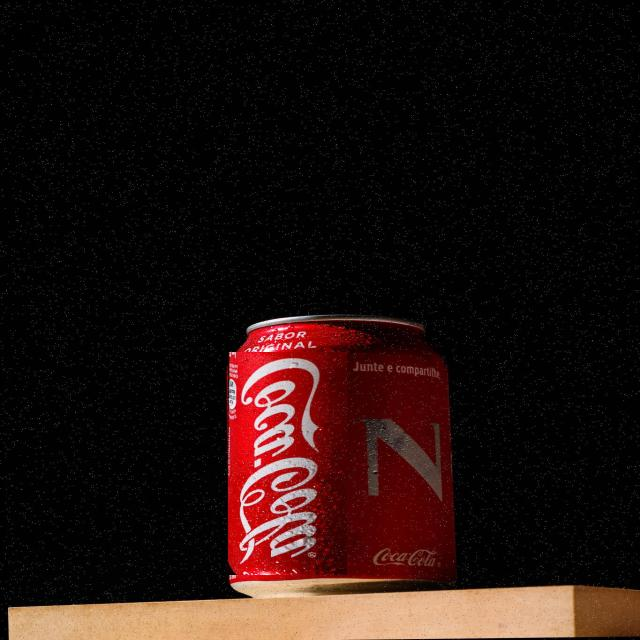coca-cola: (228, 352, 347, 575)
